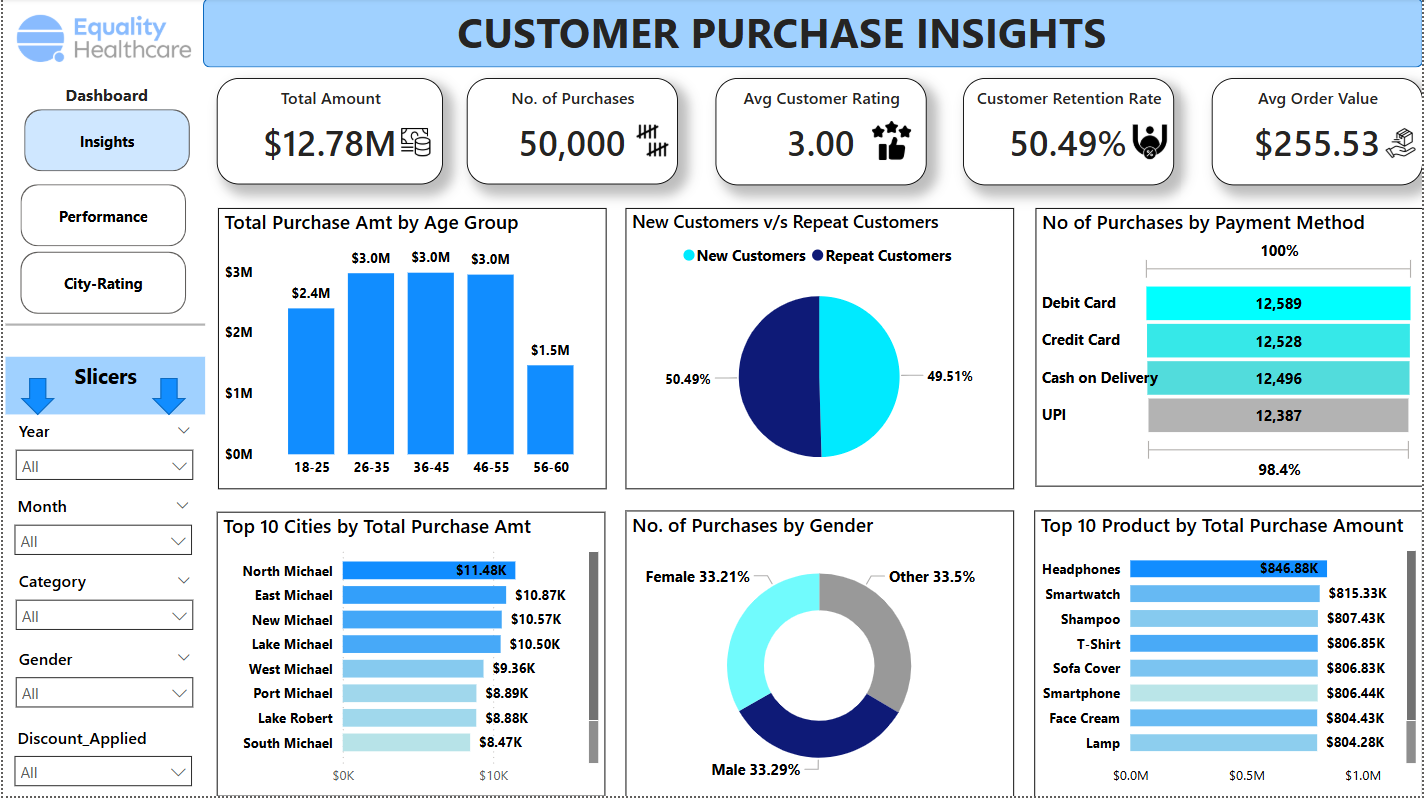

This screenshot's page, from the dashboard's own definition file:
{"tool":"powerbi","page":{"name":"Customer Purchase Insights ","canvas":[1280,720],"ordinal":0},"visuals":[{"type":"card","title":"Avg Order Value","fields":{"Values":["Measure Folder.Average Order Value"]},"box":[1089.8,72.1,190,97],"z":0,"group":"g5"},{"type":"clusteredColumnChart","title":"Total Purchase Amt by Age Group","fields":{"Category":["data.Age_Group "],"Y":["Measure Folder.Total Purchase Amount"]},"box":[194.2,189.5,350,253.5],"z":0},{"type":"shape","box":[180.2,0,1100,62.8],"z":1000},{"type":"group","id":"g1","title":"Group 4","box":[418.2,72.1,190.3,96],"z":1000,"group":"g5"},{"type":"textbox","box":[404.3,0,610.8,62.2],"z":2000},{"type":"group","id":"g2","title":"Group 5","box":[192.8,72.1,204,95.8],"z":2000,"group":"g5"},{"type":"group","id":"g3","title":"Group 1","box":[642.3,72.1,190,96.5],"z":3000,"group":"g5"},{"type":"slicer","fields":{"Values":["data.Year"]},"box":[1.2,375.7,180.4,64.7],"z":3000},{"type":"group","id":"g4","title":"Group 2","box":[866,72.1,190.2,96.5],"z":4000,"group":"g5"},{"type":"donutChart","title":"No. of Purchases by Gender","fields":{"Category":["data.Gender"],"Y":["Measure Folder.Nr of Orders"]},"box":[561.6,461.6,350,258.1],"z":4000},{"type":"slicer","fields":{"Values":["data.Month Name"]},"box":[0,443.4,180.4,64.7],"z":5000},{"type":"clusteredBarChart","title":"Top 10  Cities by Total Purchase Amt","fields":{"Y":["Measure Folder.Total Purchase Amount"],"Category":["data.City"]},"box":[193,462.8,350,257],"z":6000},{"type":"card","title":"Total Amount","fields":{"Values":["Measure Folder.Total Purchase Amount"]},"box":[192.8,72.1,204,95.8],"z":7000,"group":"g2"},{"type":"clusteredBarChart","title":"Top 10 Product by Total Purchase Amount","fields":{"Category":["data.Product_Name"],"Y":["Measure Folder.Total Purchase Amount"]},"box":[930,461.6,350,258.1],"z":7000},{"type":"card","title":"No. of Purchases","fields":{"Values":["Measure Folder.Nr of Purchase"]},"box":[418.2,72.1,190,96],"z":8000,"group":"g1"},{"type":"slicer","fields":{"Values":["data.Category"]},"box":[1.2,511.1,180.4,65.9],"z":8000},{"type":"slicer","fields":{"Values":["data.Gender"]},"box":[1.2,580.1,180.4,68.4],"z":9000},{"type":"slicer","fields":{"Values":["data.Discount_Applied"]},"box":[0,651.6,180.4,68.4],"z":10000},{"type":"image","box":[1.2,0,179.1,72.1],"z":11000},{"type":"card","title":"Avg Customer Rating","fields":{"Values":["data.Avg Customer Rating"]},"box":[642.3,72.1,190,96.5],"z":11000,"group":"g3"},{"type":"textbox","box":[19.2,72.1,148.8,31.6],"z":12000},{"type":"pieChart","title":"New Customers v/s Repeat Customers","fields":{"Y":["Measure Folder.New Customers","Measure Folder.Repeat Customers"]},"box":[561.6,189.5,350,253.5],"z":13000},{"type":"funnel","title":"No of  Purchases by Payment Method","fields":{"Category":["data.Payment_Method"],"Y":["Measure Folder.No of Purchase"]},"box":[930.5,189.1,349.6,251.3],"z":14000},{"type":"card","title":"Customer Retention Rate","fields":{"Values":["data.Customer Retention Rate"]},"box":[866,72.1,190,96.5],"z":15000,"group":"g4"},{"type":"image","box":[1232.8,110.7,47.3,46],"z":15000},{"type":"shape","box":[2.5,284.9,180.4,18.7],"z":16000},{"type":"textbox","box":[2.5,323.4,180.4,52.2],"z":17000},{"type":"shape","box":[16.2,342.1,31.1,33.6],"z":18000},{"type":"shape","box":[134.3,342.1,31.1,33.6],"z":19000},{"type":"group","id":"g5","title":"Group 3","box":[192.8,72.1,1087.2,97],"z":20000},{"type":"image","box":[1241.4,112,38.6,38.6],"z":21000},{"type":"actionButton","title":"Insihts","box":[16.2,228.9,149.3,56],"z":22000},{"type":"actionButton","title":"Insihts","box":[16.2,167.9,149.3,56],"z":23000},{"type":"image","box":[562.5,109.4,46,38.6],"z":23004,"group":"g1"},{"type":"image","box":[348.3,106.9,48.5,44.8],"z":23006,"group":"g2"},{"type":"actionButton","title":"Insihts","box":[18.7,100.8,149.3,56],"z":24000},{"type":"image","box":[1012.6,109.5,43.5,41.1],"z":26000,"group":"g4"},{"type":"image","box":[778.8,103.3,44.8,49.8],"z":27000,"group":"g3"}]}

Visuals, with their boxes in screenshot pixels (x1, y1, x2, y2), scaled from the page's 1280x720 canvas onto the 1426x798 screenshot:
"Avg Order Value" card: box=[1214, 80, 1425, 187]
"Total Purchase Amt by Age Group" clusteredColumnChart: box=[216, 210, 606, 491]
shape: box=[201, 0, 1425, 70]
"Group 4" group: box=[466, 80, 678, 186]
textbox: box=[450, 0, 1131, 69]
"Group 5" group: box=[215, 80, 442, 186]
"Group 1" group: box=[716, 80, 927, 187]
slicer - data.Year: box=[1, 416, 202, 488]
"Group 2" group: box=[965, 80, 1177, 187]
"No. of Purchases by Gender" donutChart: box=[626, 512, 1016, 797]
slicer - data.Month Name: box=[0, 491, 201, 563]
"Top 10  Cities by Total Purchase Amt" clusteredBarChart: box=[215, 513, 605, 797]
"Total Amount" card: box=[215, 80, 442, 186]
"Top 10 Product by Total Purchase Amount" clusteredBarChart: box=[1036, 512, 1425, 797]
"No. of Purchases" card: box=[466, 80, 678, 186]
slicer - data.Category: box=[1, 566, 202, 640]
slicer - data.Gender: box=[1, 643, 202, 719]
slicer - data.Discount_Applied: box=[0, 722, 201, 797]
image: box=[1, 0, 201, 80]
"Avg Customer Rating" card: box=[716, 80, 927, 187]
textbox: box=[21, 80, 187, 115]
"New Customers v/s Repeat Customers" pieChart: box=[626, 210, 1016, 491]
"No of  Purchases by Payment Method" funnel: box=[1037, 210, 1425, 488]
"Customer Retention Rate" card: box=[965, 80, 1176, 187]
image: box=[1373, 123, 1425, 174]
shape: box=[3, 316, 204, 336]
textbox: box=[3, 358, 204, 416]
shape: box=[18, 379, 53, 416]
shape: box=[150, 379, 184, 416]
"Group 3" group: box=[215, 80, 1425, 187]
image: box=[1383, 124, 1425, 167]
"Insihts" actionButton: box=[18, 254, 184, 316]
"Insihts" actionButton: box=[18, 186, 184, 248]
image: box=[627, 121, 678, 164]
image: box=[388, 118, 442, 168]
"Insihts" actionButton: box=[21, 112, 187, 174]
image: box=[1128, 121, 1177, 167]
image: box=[868, 114, 918, 170]
